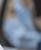with_mask: (2, 1, 41, 50)
